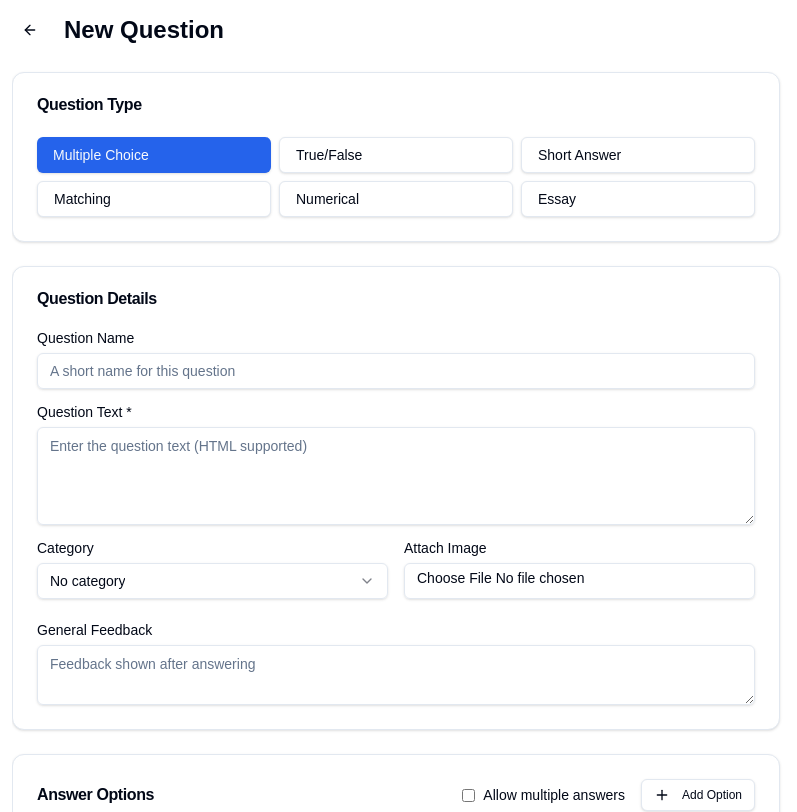
QuestionForm › should switch to Matching view with pairs
Click the button "Matching". click: (154, 199)
box: [37,181,271,217]
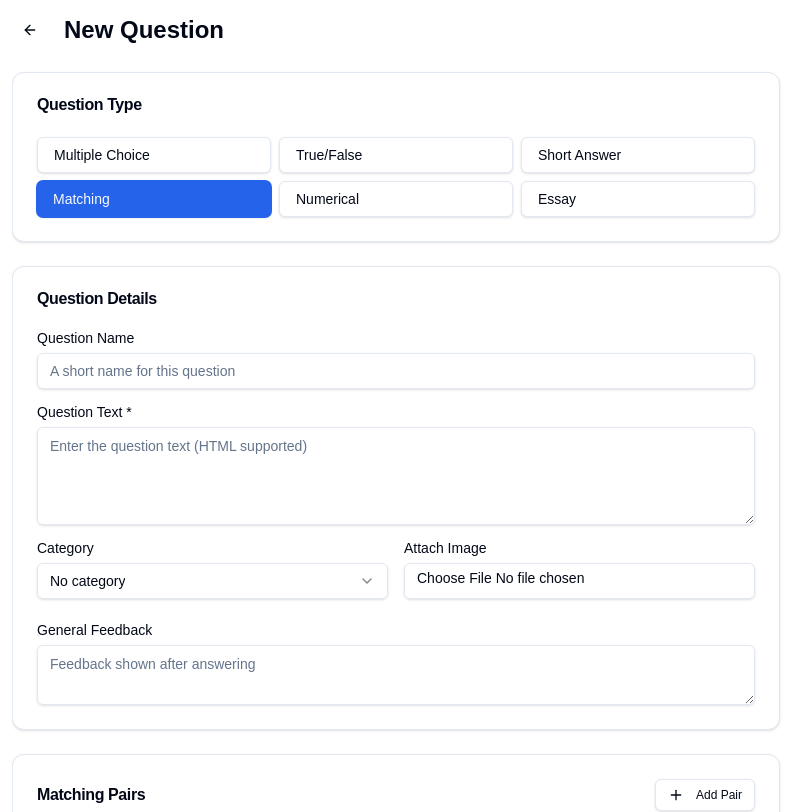
Expected: the text "Matching Pairs" is shown, [37,787,145,803]
